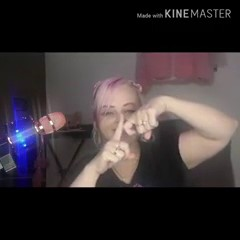K: (93, 99, 164, 174)
